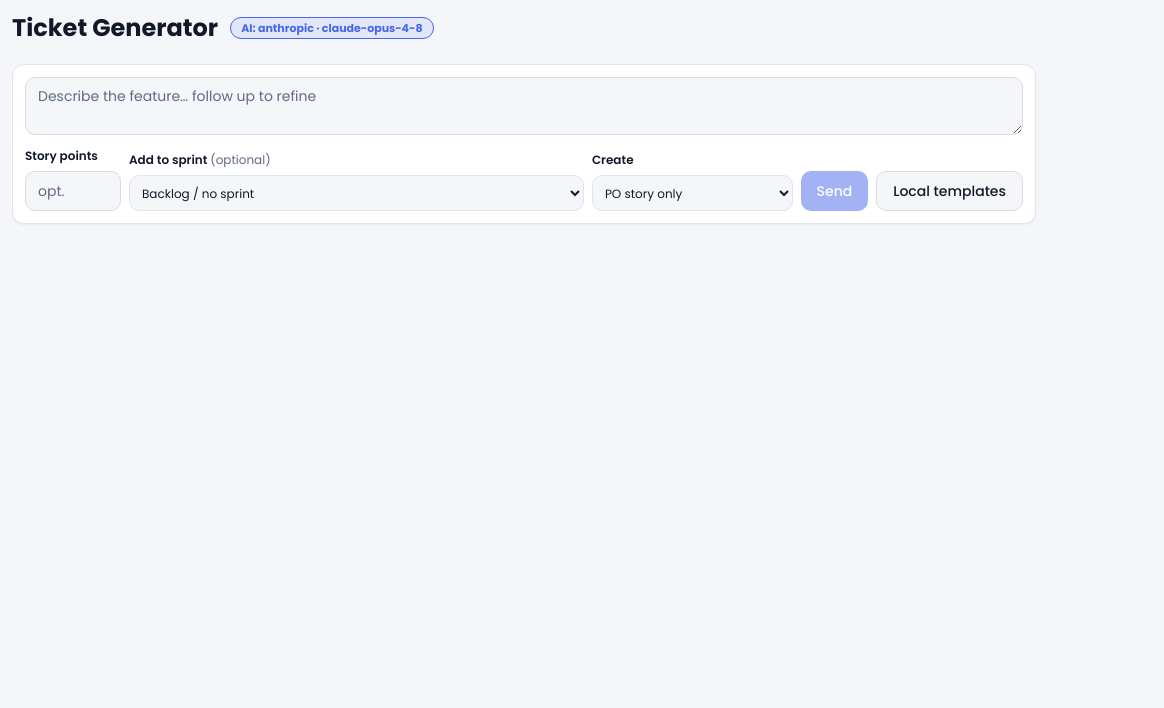
TicketGen › clicking 'Use AI drafting' re-checks AI status and returns to AI mode when enabled
The image size is (1164, 708).
Expected: the text "AI: anthropic · claude-opus-4-8" is shown, [230,17,434,39]
Note: Trigger force-fallback via AI_UNAVAILABLE
Type "Test feature" into the text box labelled "Describe the feature… follow up to refine" at x=524, y=106, box [25,77,1023,135]
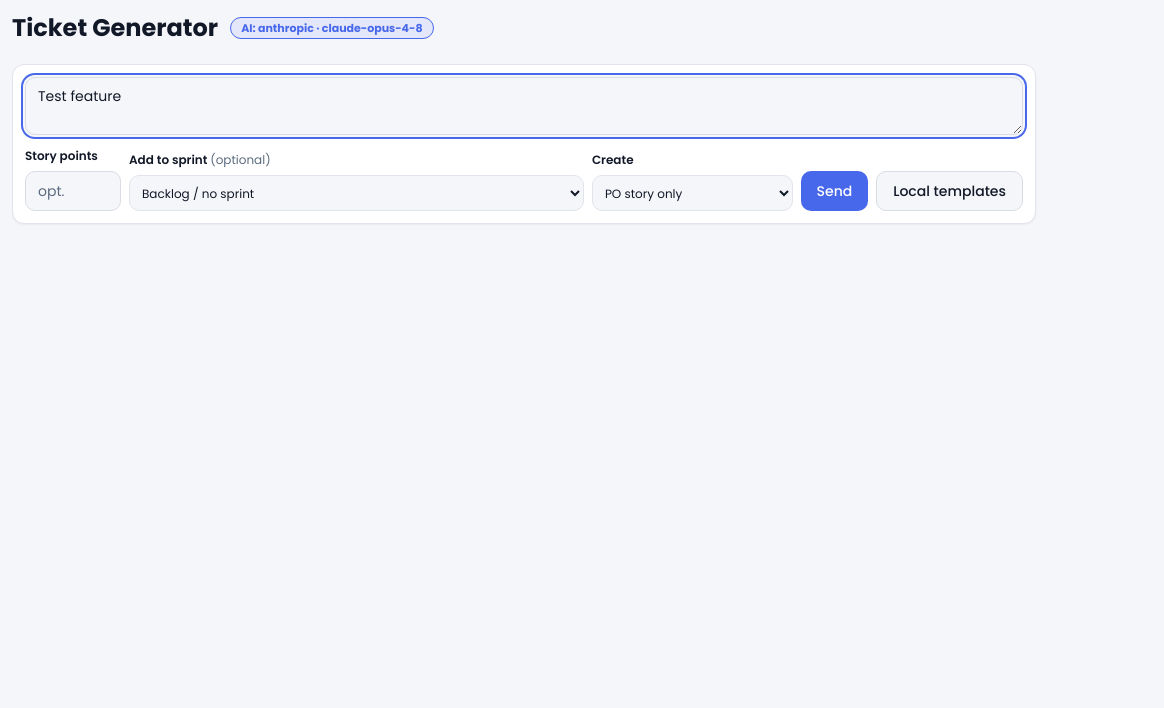
Click the button "Send" at x=834, y=191, box [800,171,868,211]
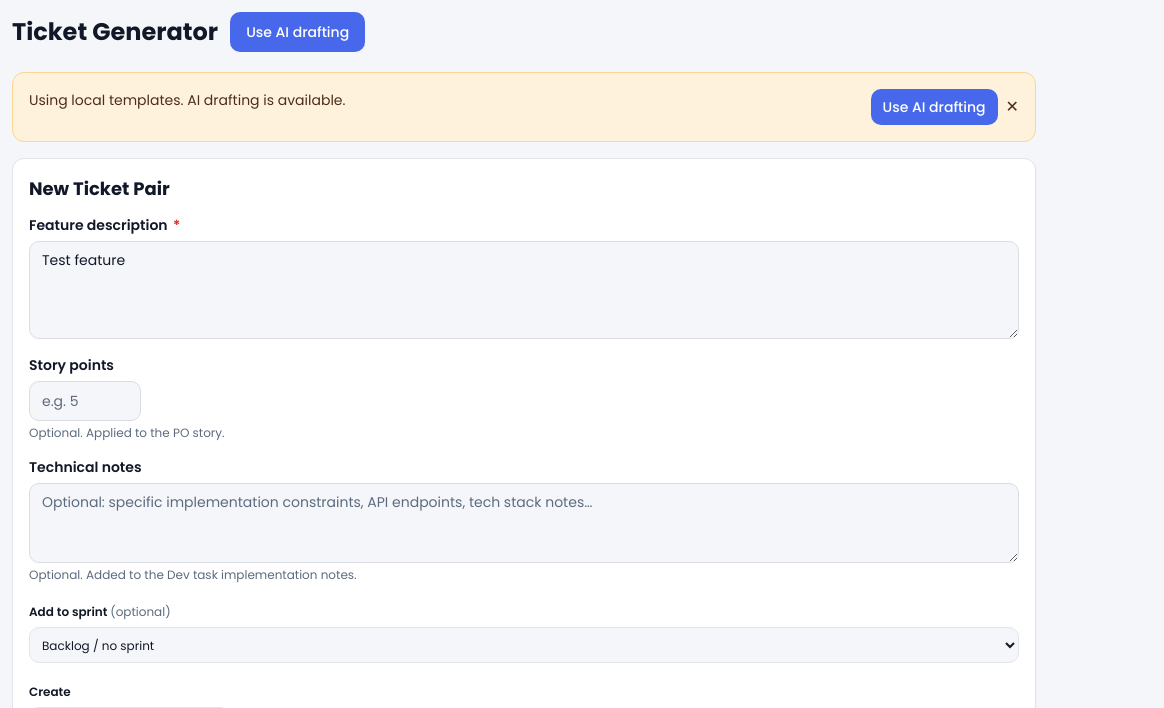
Note: Click the first "Use AI drafting" button
Click the button "Use AI drafting" next to "Ticket Generator" at x=298, y=32, box [230,12,365,52]
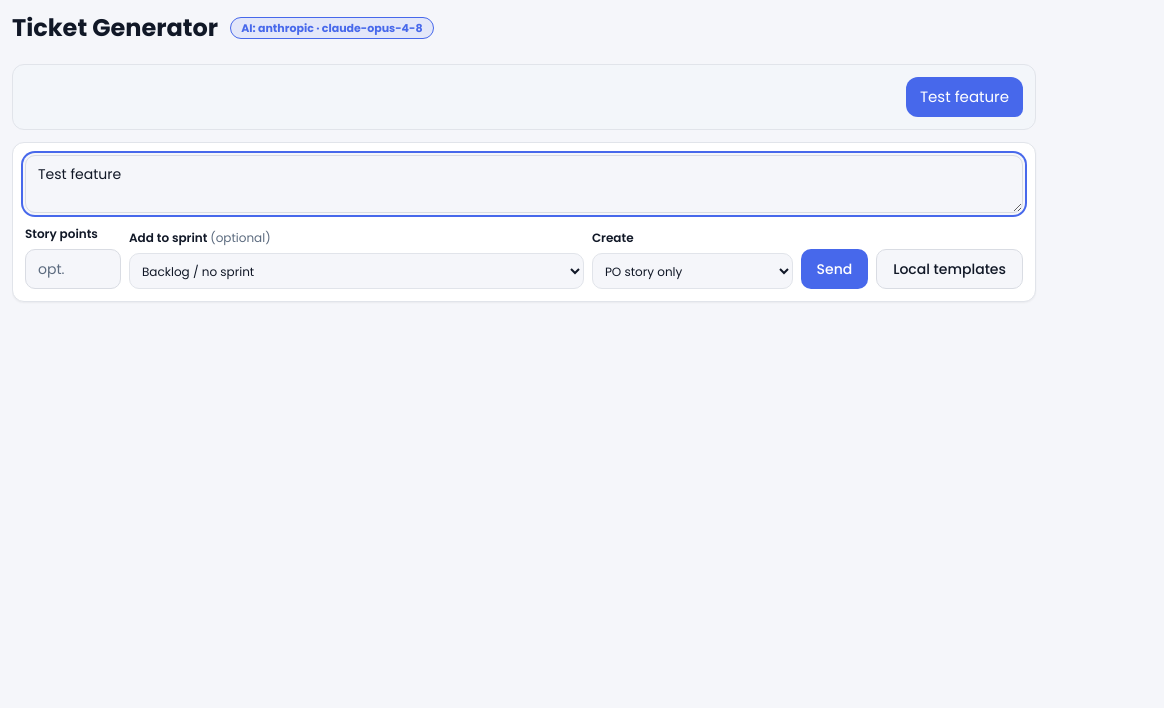
Result: the text "AI: anthropic · claude-opus-4-8" is shown at [230,17,434,39]
